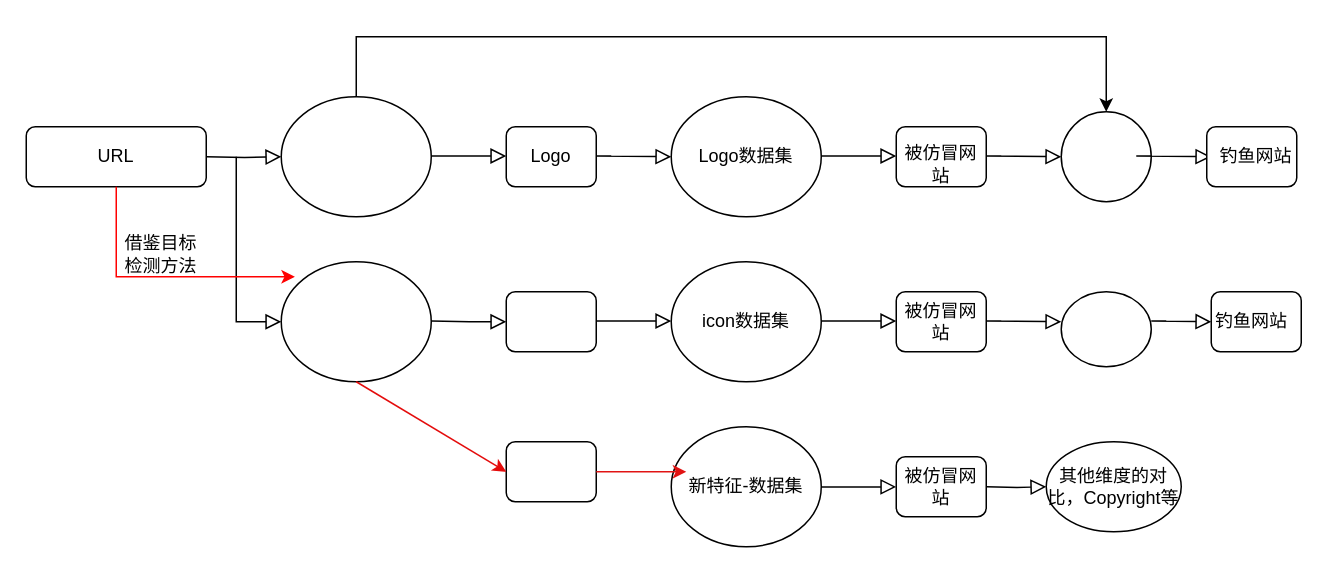
This 1328x573 diagram has some shape labels left out. Each missing label, with the box of its shape:
html信息里提取icon: (280, 260, 431, 382)
icon: (505, 290, 596, 352)
Logo / icon结合: (505, 440, 596, 502)
域名: (1060, 290, 1151, 367)
截图-内容检测: (280, 95, 431, 217)
网页截图相似度: (1060, 110, 1151, 202)
